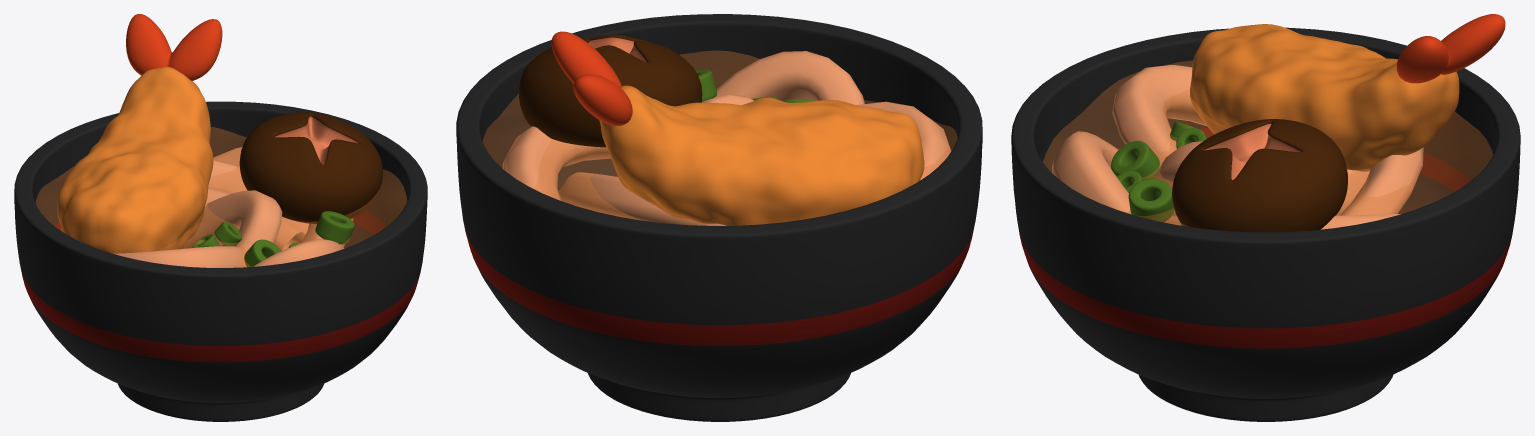
The picture shows the model from 3 angles, left to right: view 1: azimuth 30°, elevation 25°; view 2: azimuth 150°, elevation 25°; view 3: azimuth 270°, elevation 25°; orthographic projection. The views are drawn at different scales.
Visible parts, largest first — view 1: Circle.013, Plane.018, Sphere.133, Circle.022, Plane.019, NurbsPath.004, NurbsPath.006, NurbsPath.003, NurbsPath.001, Circle.020, NurbsPath.002, Circle.024 (+2 smaller); view 2: Circle.013, Plane.018, Sphere.133, Circle.022, NurbsPath.003, Plane.019, NurbsPath.005, NurbsPath.001, NurbsPath.006; view 3: Circle.013, Plane.018, Sphere.133, Circle.022, NurbsPath.006, Plane.019, NurbsPath.003, NurbsPath.001, Circle.020, Circle.024, NurbsPath.004, NurbsPath.005 (+1 smaller).
Boxes of the visible parts, box(x1,y1,x2,y2) form: Circle.013: box(14, 101, 427, 421); Plane.018: box(57, 67, 213, 253); Sphere.133: box(239, 112, 382, 224); Circle.022: box(36, 127, 406, 267); Plane.019: box(126, 14, 222, 80); NurbsPath.004: box(182, 190, 282, 253); NurbsPath.006: box(113, 246, 246, 267); NurbsPath.003: box(253, 239, 342, 266); NurbsPath.001: box(208, 160, 344, 248); Circle.020: box(315, 211, 354, 244); NurbsPath.002: box(205, 187, 305, 250); Circle.024: box(244, 239, 280, 267); Circle.013: box(456, 14, 982, 421); Plane.018: box(599, 85, 924, 225); Sphere.133: box(519, 34, 702, 147); Circle.022: box(483, 51, 957, 220); NurbsPath.003: box(714, 51, 864, 104); Plane.019: box(551, 31, 632, 125); NurbsPath.005: box(502, 126, 611, 200); NurbsPath.001: box(558, 172, 726, 225); NurbsPath.006: box(781, 101, 951, 342); Circle.013: box(1011, 27, 1520, 421); Plane.018: box(1190, 24, 1459, 171); Sphere.133: box(1172, 119, 1347, 232); Circle.022: box(1043, 61, 1492, 226); NurbsPath.006: box(1112, 65, 1206, 212); Plane.019: box(1396, 14, 1505, 83); NurbsPath.003: box(1051, 131, 1130, 213); NurbsPath.001: box(1340, 147, 1423, 215); Circle.020: box(1128, 178, 1174, 222); Circle.024: box(1111, 140, 1159, 179); NurbsPath.004: box(1154, 141, 1231, 216); NurbsPath.005: box(1164, 214, 1400, 229).
Size of the model in its own units: 3.09 by 2.45 by 3.09.
